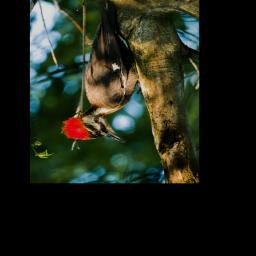Woodpecker: (62, 0, 147, 144)
